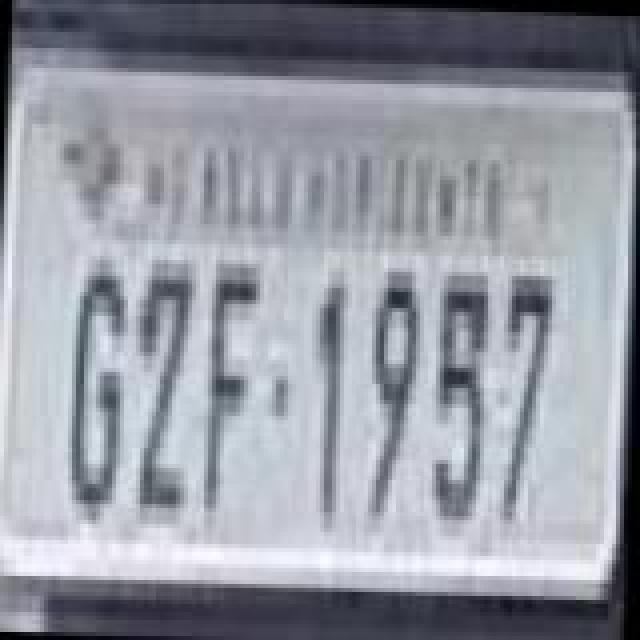1: (306, 266, 354, 530)
5: (426, 258, 490, 522)
7: (498, 264, 554, 528)
9: (364, 268, 424, 532)
F: (204, 252, 264, 516)
G: (66, 256, 130, 520)
Z: (126, 246, 198, 510)
